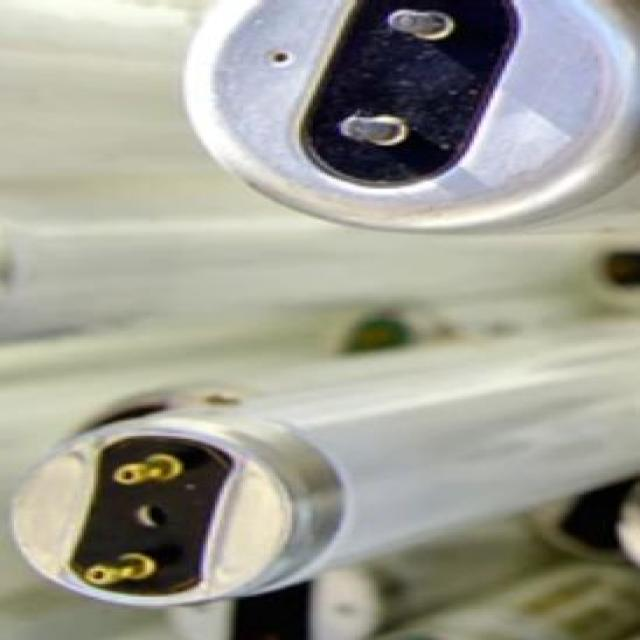electronic: (7, 299, 638, 609), (178, 0, 638, 235), (7, 393, 348, 609)
